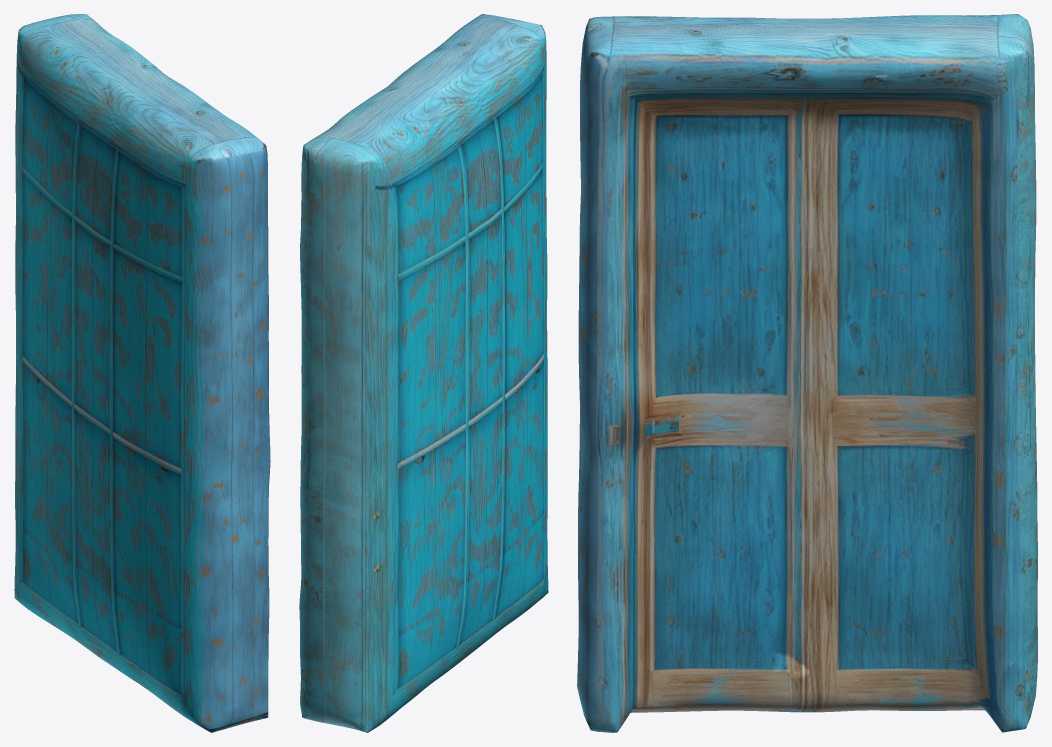
File: Porte.fbx
3 views of the same model, side by side, from view 1: azimuth 30°, elevation 25°; view 2: azimuth 150°, elevation 25°; view 3: azimuth 270°, elevation 25° (orthographic). The views are drawn at different scales.
Parts seen in each view (by area): view 1: Mesh_0; view 2: Mesh_0; view 3: Mesh_0.
Boxes of the visible parts, left/top/right/bottom form: Mesh_0: left=14, top=14, right=270, bottom=732; Mesh_0: left=299, top=14, right=548, bottom=732; Mesh_0: left=577, top=14, right=1037, bottom=732.
Bounding box in the file's own units: 20.92 × 120 × 72.57.
Materials: 1 (1 with a texture image).
